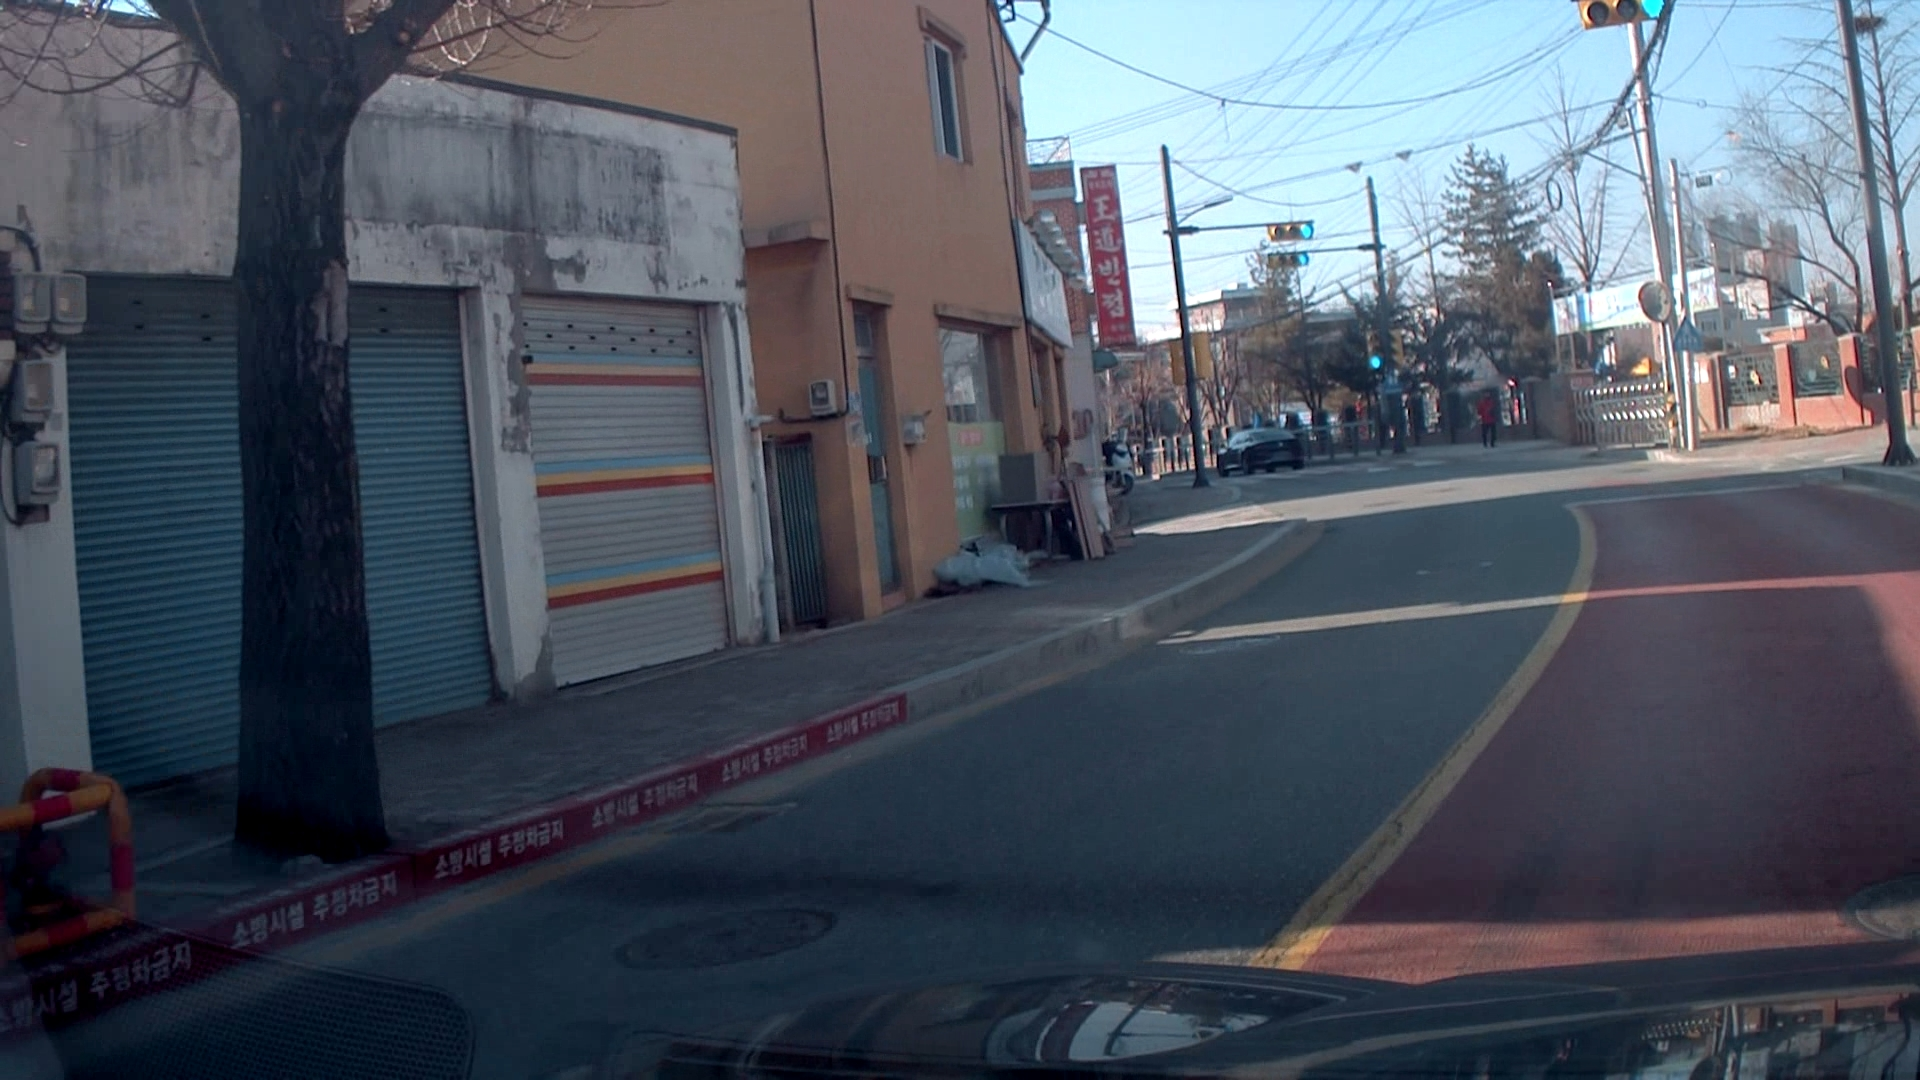trafficLight: (1571, 1, 1675, 28), (1265, 222, 1313, 241), (1269, 255, 1308, 272)
